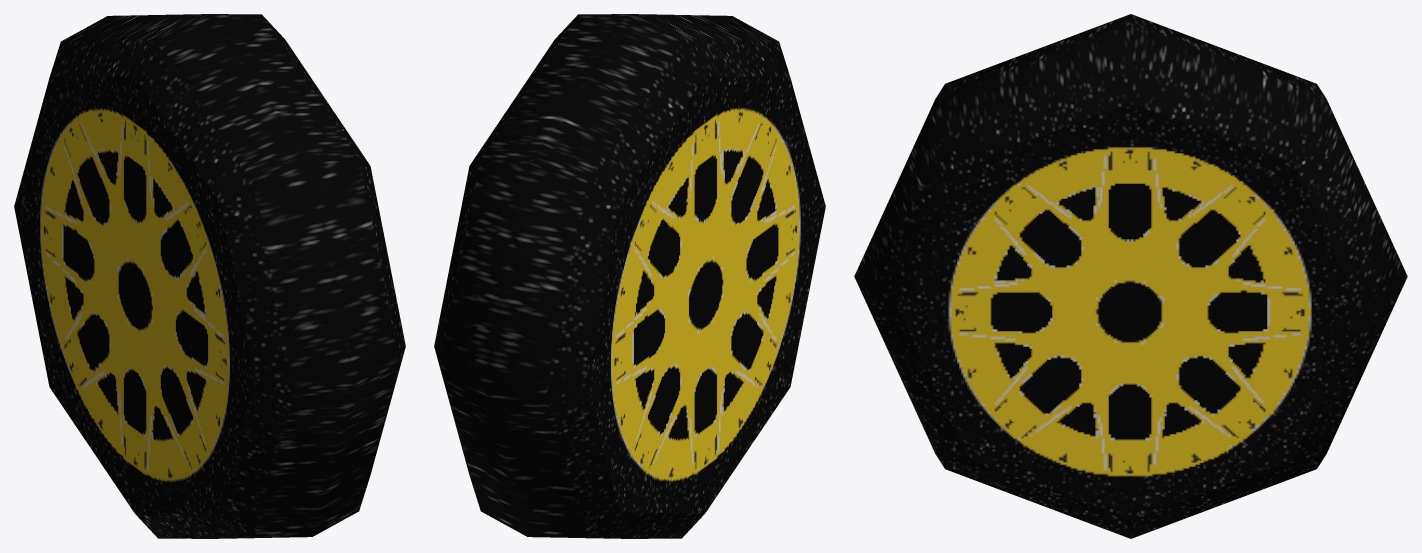
The model's file is bikeRearWheel_lowpoly.obj.
3 views of the same model, side by side, from view 1: azimuth 30°, elevation 25°; view 2: azimuth 150°, elevation 25°; view 3: azimuth 270°, elevation 25° (orthographic). The views are drawn at different scales.
Visible parts, largest first — view 1: RearWheel_Cylinder; view 2: RearWheel_Cylinder; view 3: RearWheel_Cylinder.
Boxes of the visible parts, x1,y1,x2,y2 form: RearWheel_Cylinder: (14, 14, 405, 538); RearWheel_Cylinder: (434, 14, 825, 538); RearWheel_Cylinder: (854, 14, 1407, 538).
Bounding box in the file's own units: 0.6 × 2 × 2.
Materials: 1 (1 with a texture image).
